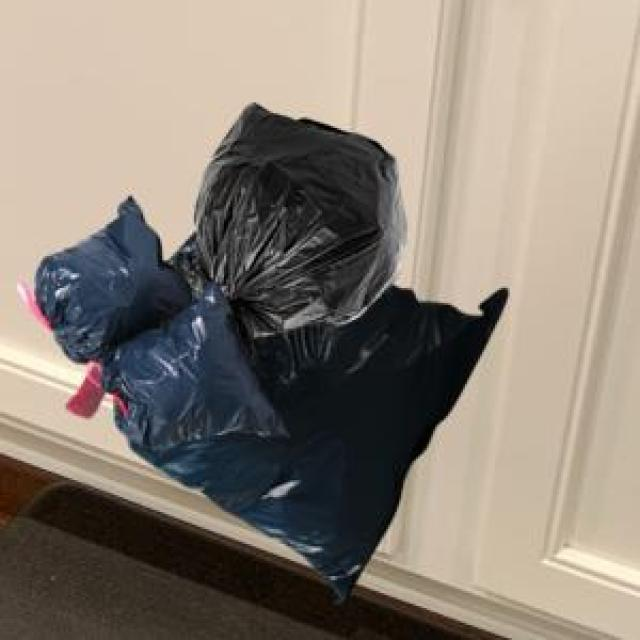waste: (36, 104, 508, 599)
